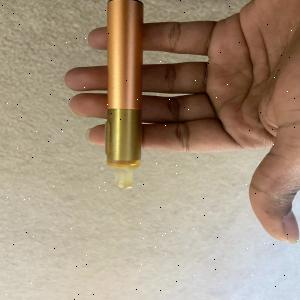Golden-E-Ciggirate: (98, 0, 143, 196)
